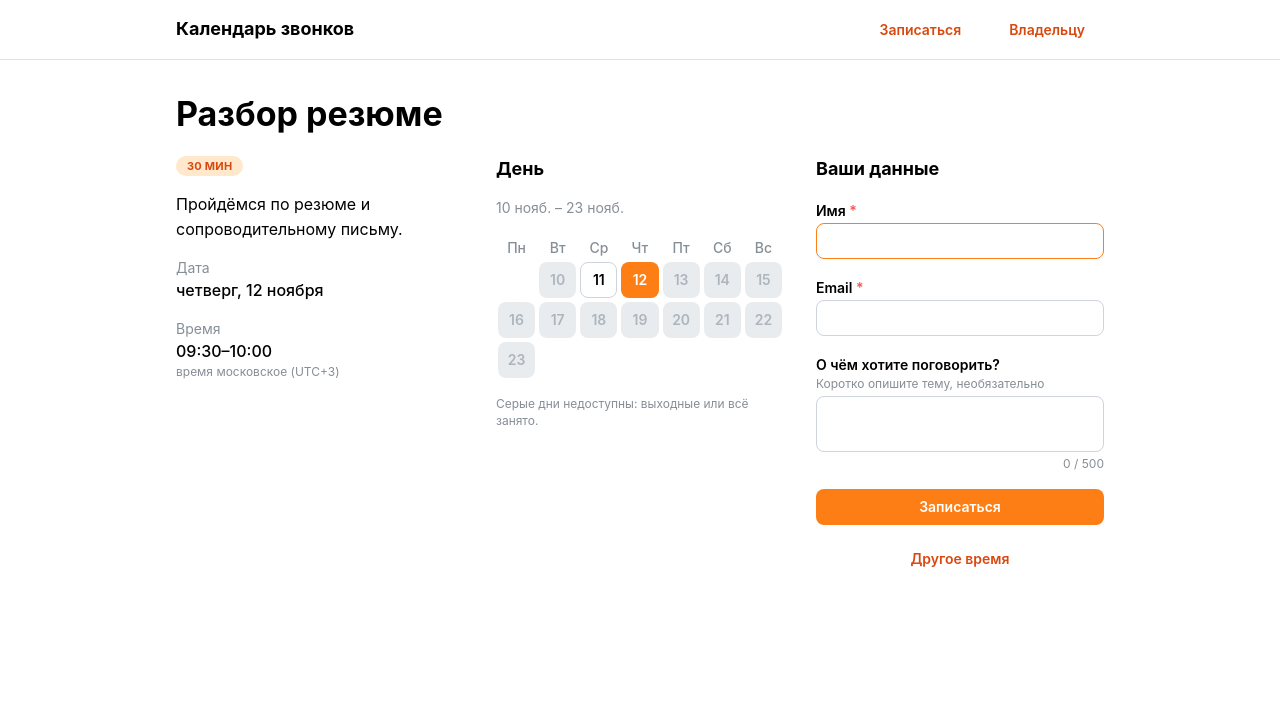
Scenario: a rejected start sends the guest back to fresh slots of the chosen day with «Это время больше недоступно. Выберите другое.»
The width and height of the screenshot is (1280, 720).
Earlier steps of the test are not shown.
Later steps or results of the test are not shown.
Type keys "Иван Петров"
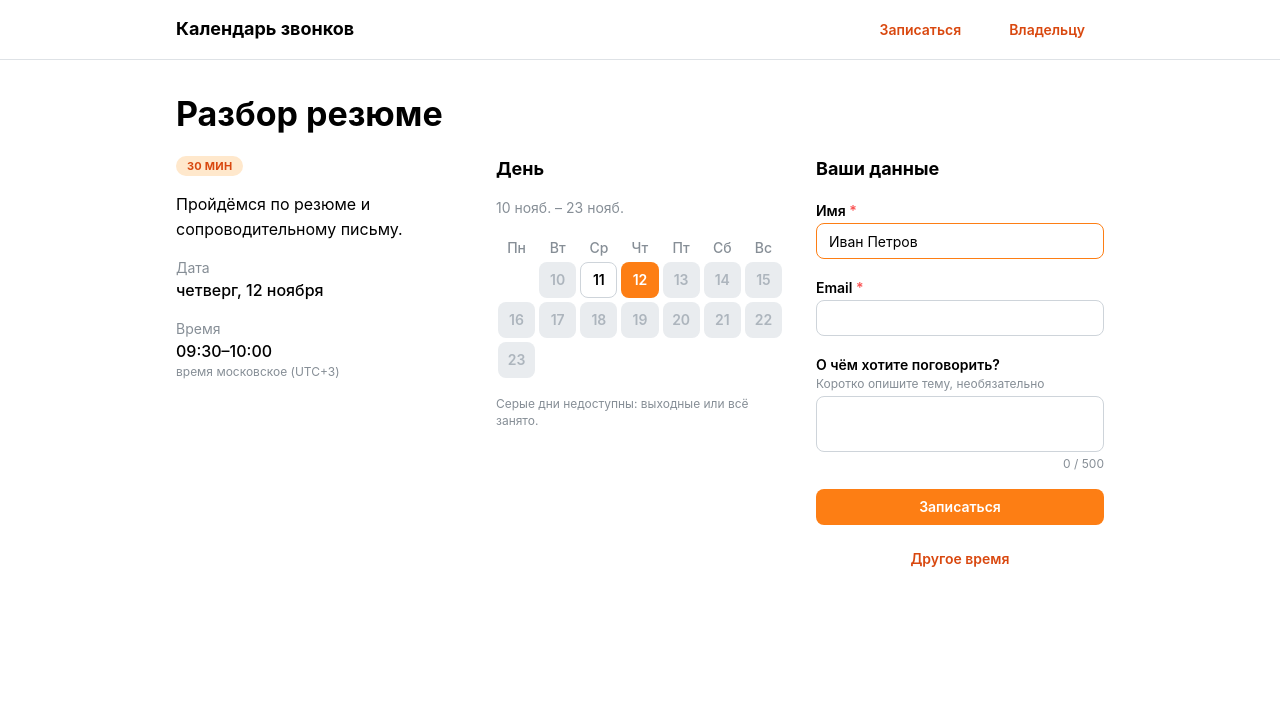
Clear the field labelled "Email" at (960, 318), box [816,300,1104,336]
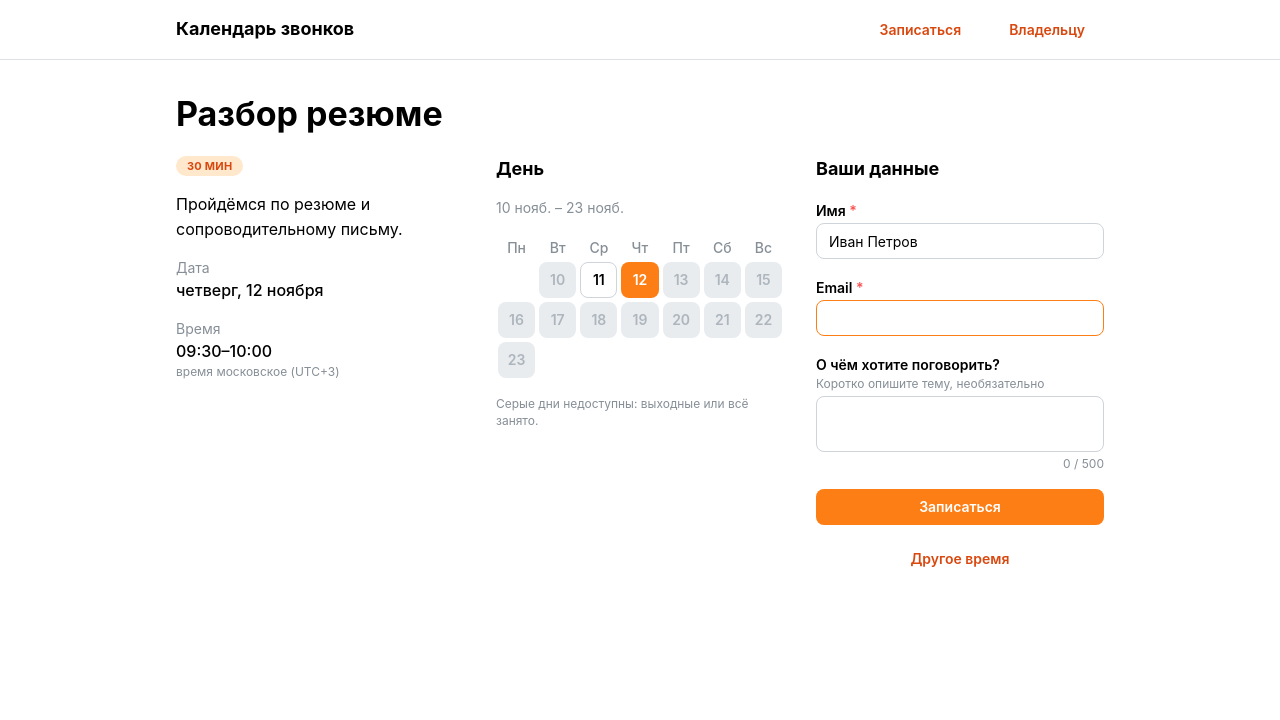
Click the field labelled "Email".
click(960, 318)  # box [816,300,1104,336]
Type keys "ivan@example.com"
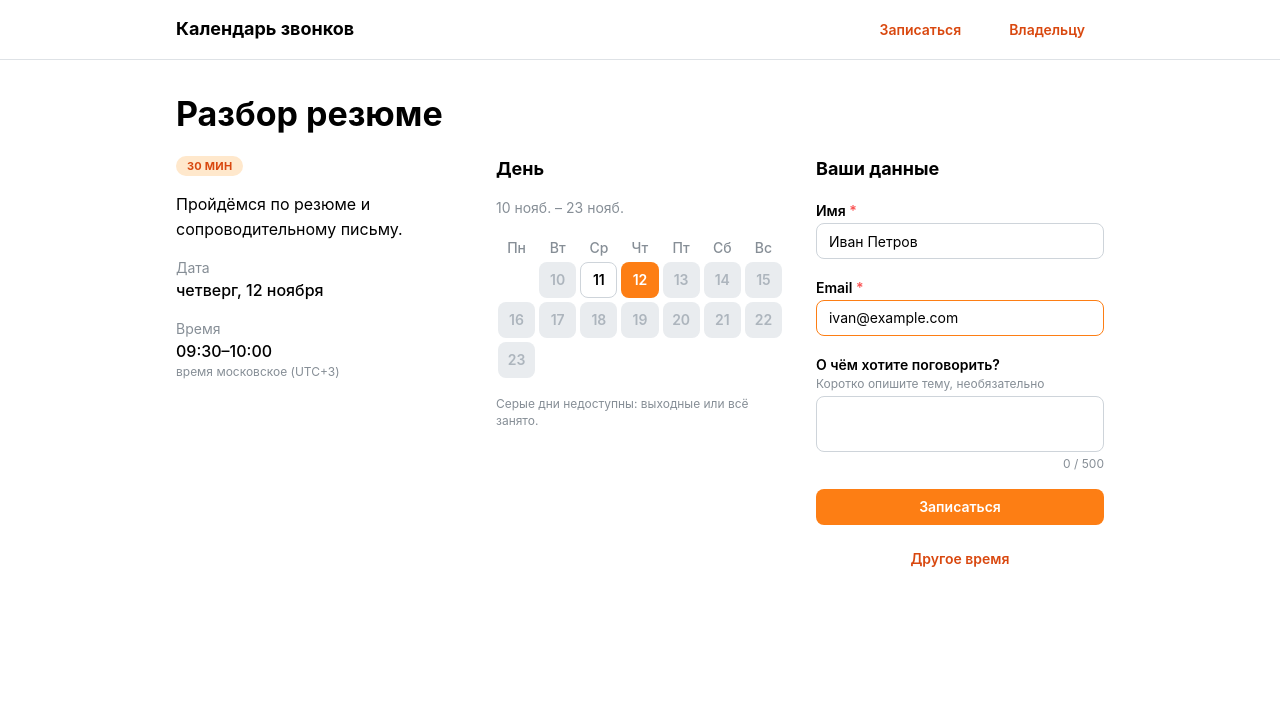
Clear the text box labelled "О чём хотите поговорить?" at (960, 424), box [816,396,1104,452]
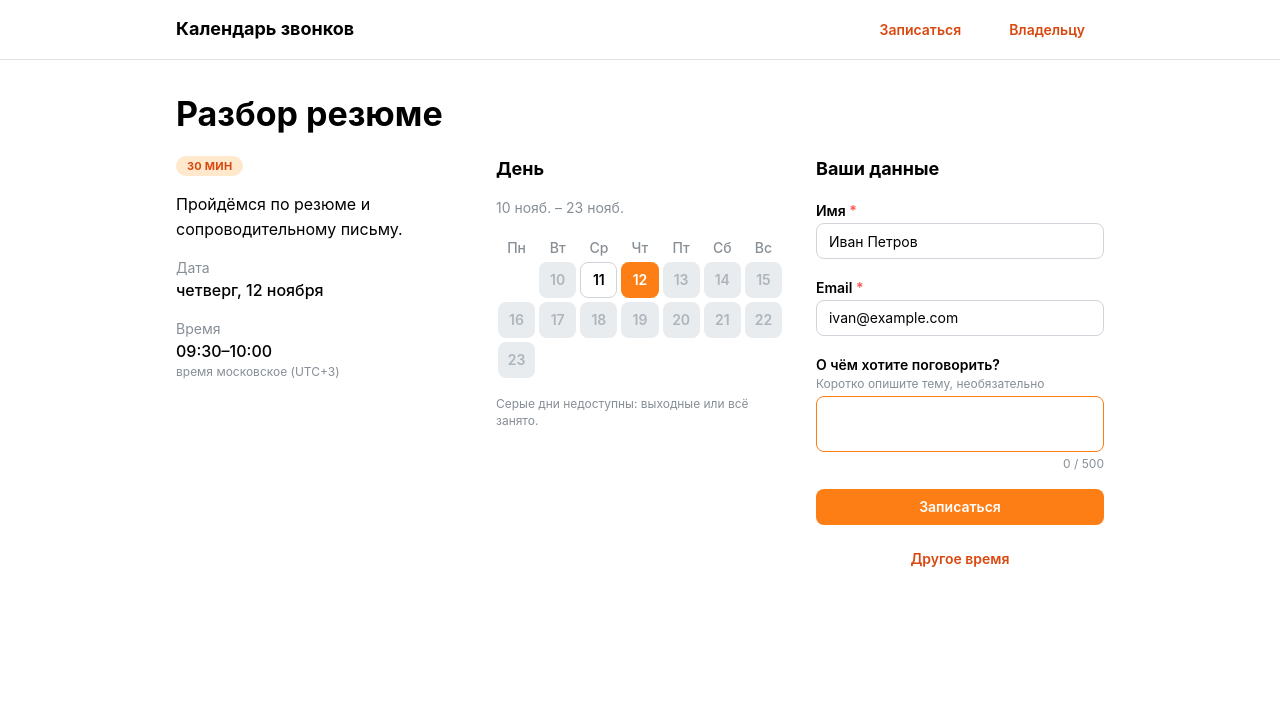
Click the text box labelled "О чём хотите поговорить?".
click(960, 424)  # box [816,396,1104,452]
Type keys "Хочу обсудить резюме"
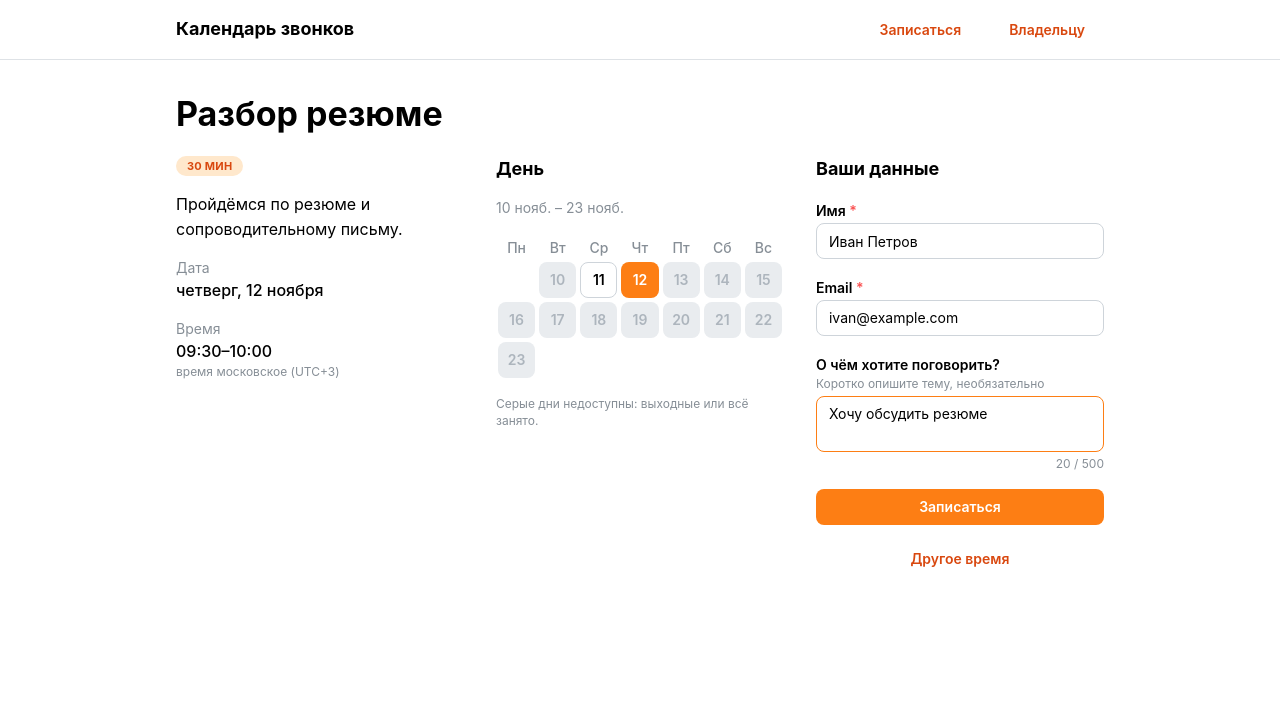
Click the button "Записаться" below "500".
click(960, 507)  # box [816,489,1104,525]
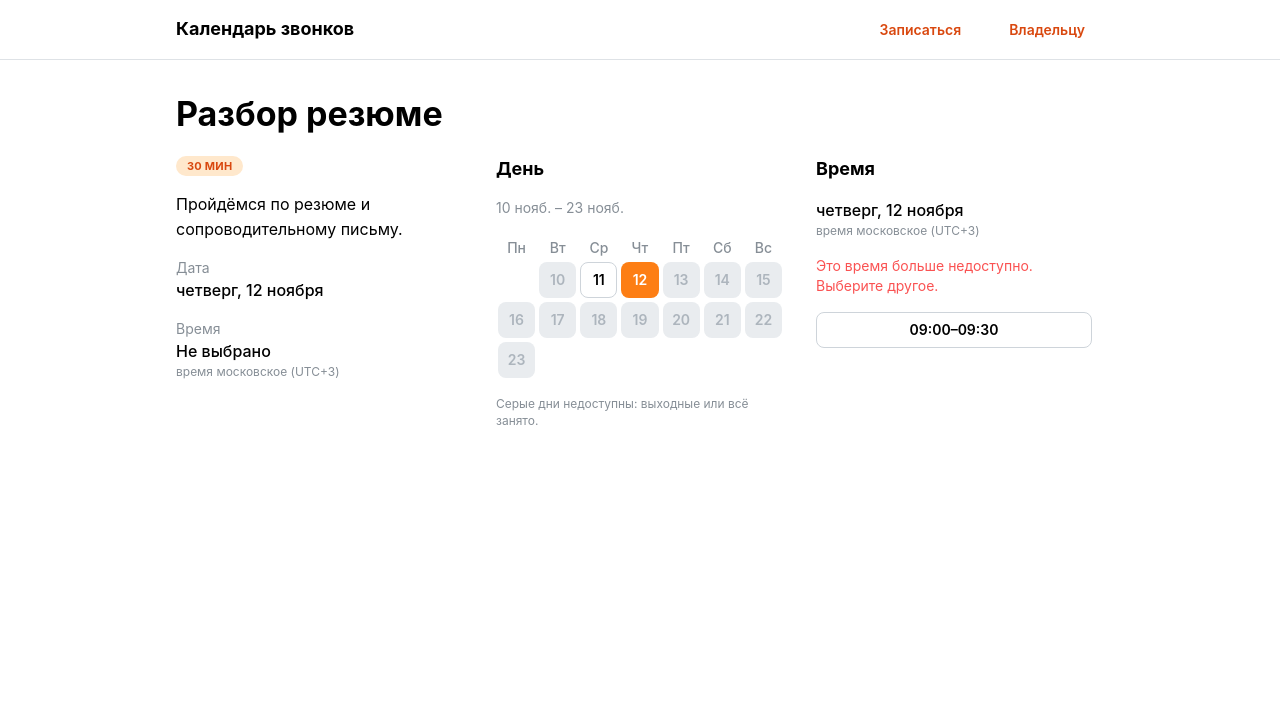
Expected: the text "Это время больше недоступно. Выберите другое." is shown, [816,257,1033,294]
Expected: the heading "Ваши данные" is gone
Expected: the text "Не выбрано" is shown, [176,341,271,361]
